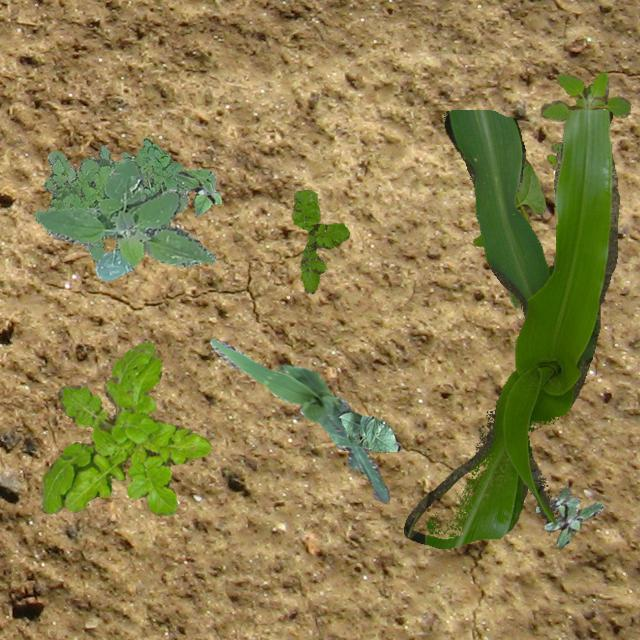crop: (402, 108, 618, 548), (208, 338, 388, 502), (472, 158, 544, 308), (336, 410, 401, 450)
weed: (40, 340, 208, 514), (32, 156, 214, 280), (42, 138, 215, 262), (540, 70, 630, 170), (290, 188, 348, 292), (534, 486, 602, 546), (173, 170, 220, 214)
